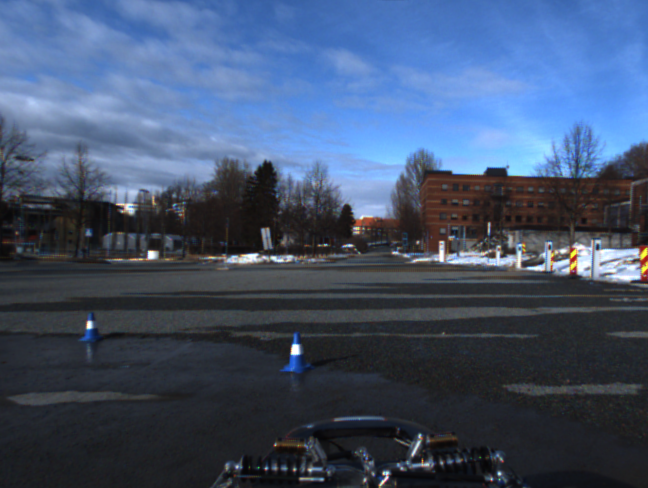cone-small-blue: (280, 331, 314, 373), (79, 312, 103, 342)
